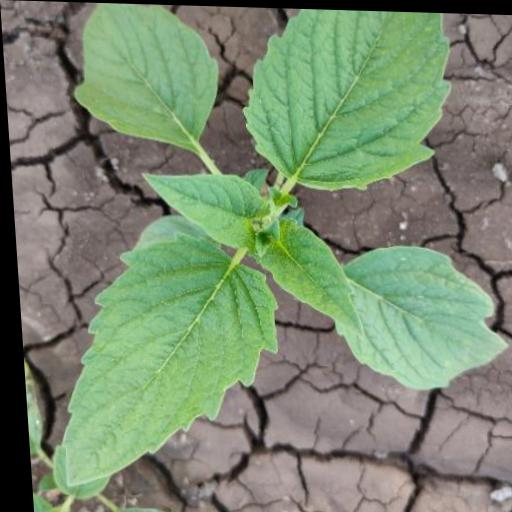crop: (20, 0, 508, 495)
